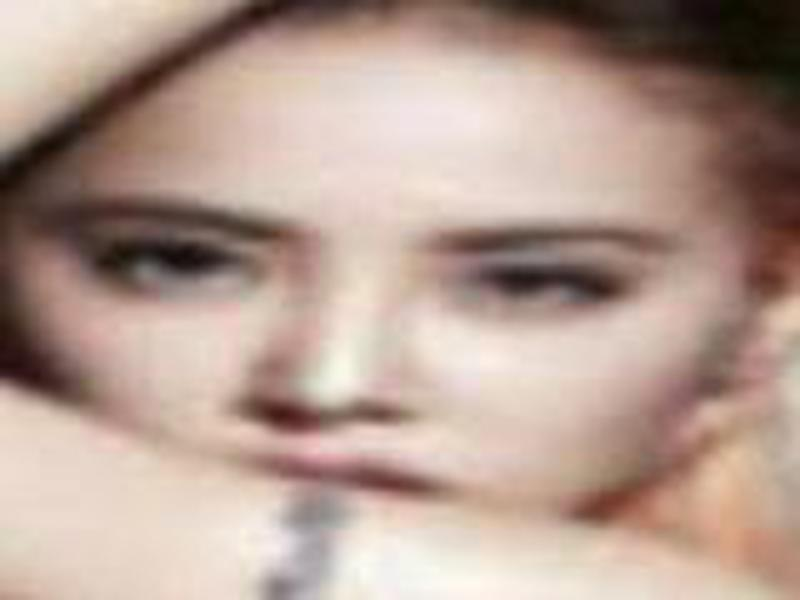without_mask: (23, 6, 748, 557)
